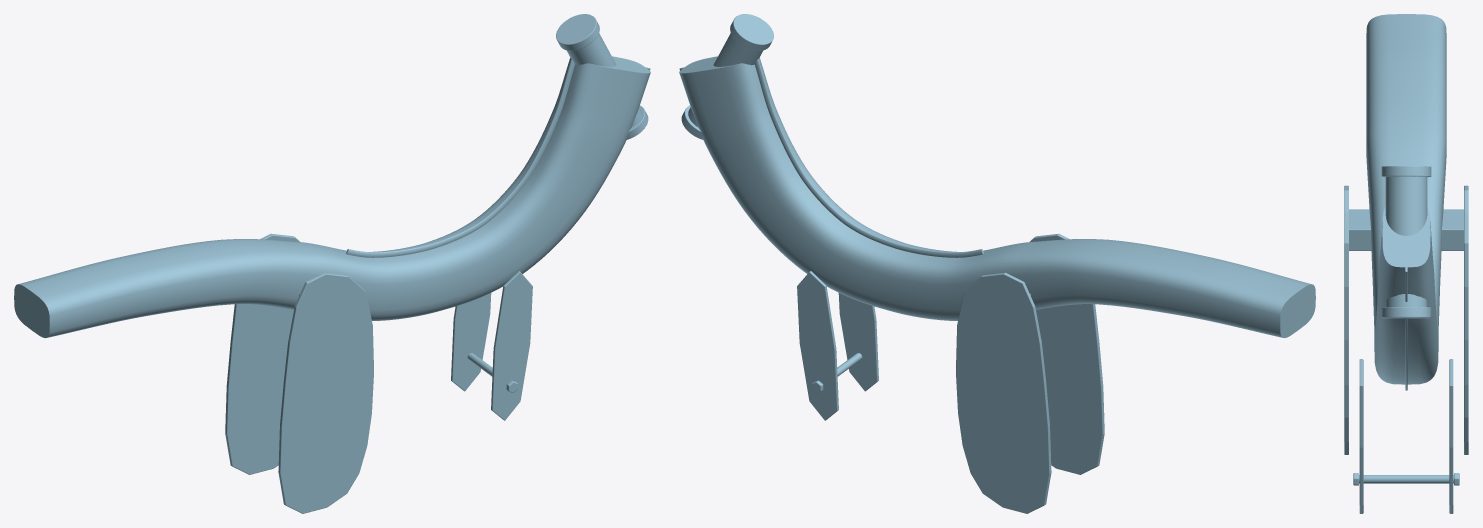
Rendered from bike_step_through__frame.glb.
3 views of the same model, side by side, from view 1: azimuth 30°, elevation 25°; view 2: azimuth 150°, elevation 25°; view 3: azimuth 270°, elevation 25° (orthographic). The views are drawn at different scales.
Visible parts, largest first — view 1: frame_body__frame__backbone, frame_body__frame__brackets, frame_body__frame__head_tube, frame_body__frame__seam_flange; view 2: frame_body__frame__backbone, frame_body__frame__brackets, frame_body__frame__head_tube, frame_body__frame__seam_flange; view 3: frame_body__frame__backbone, frame_body__frame__brackets, frame_body__frame__head_tube, frame_body__frame__seam_flange.
Part boxes in pixels (x1=…): frame_body__frame__backbone: x1=14, y1=56, x2=650, y2=338; frame_body__frame__brackets: x1=225, y1=233, x2=532, y2=513; frame_body__frame__head_tube: x1=556, y1=14, x2=648, y2=139; frame_body__frame__seam_flange: x1=346, y1=58, x2=650, y2=257; frame_body__frame__backbone: x1=679, y1=56, x2=1315, y2=338; frame_body__frame__brackets: x1=797, y1=233, x2=1104, y2=513; frame_body__frame__head_tube: x1=681, y1=14, x2=773, y2=139; frame_body__frame__seam_flange: x1=679, y1=58, x2=983, y2=257; frame_body__frame__backbone: x1=1366, y1=14, x2=1446, y2=384; frame_body__frame__brackets: x1=1344, y1=185, x2=1468, y2=513; frame_body__frame__head_tube: x1=1381, y1=166, x2=1431, y2=318; frame_body__frame__seam_flange: x1=1405, y1=266, x2=1407, y2=390.
Size of the model in its own units: 99.91 by 61.77 by 15.5.
